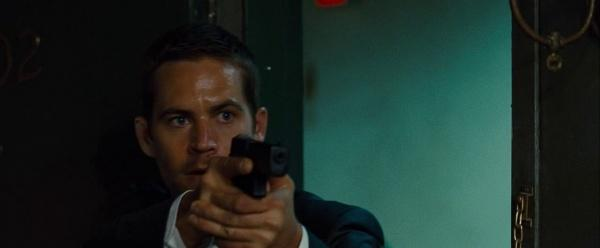Gun: (228, 133, 288, 200)
